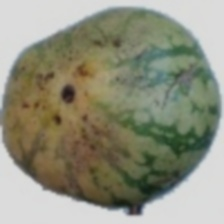watermelon: (40, 25, 222, 205)
